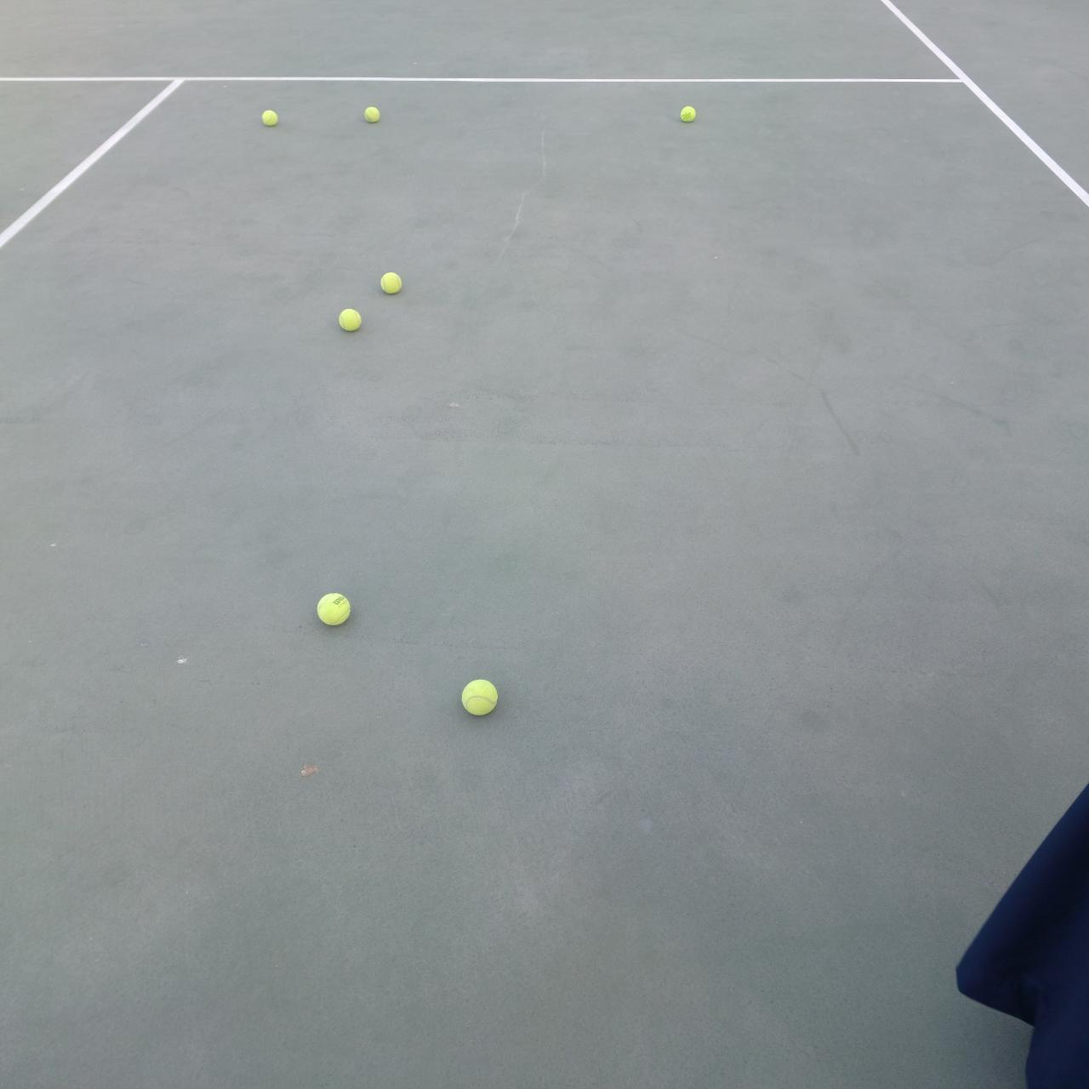tennis-ball: (459, 676, 499, 716), (314, 590, 351, 626), (336, 306, 362, 332), (379, 270, 402, 294), (260, 107, 278, 126), (362, 104, 380, 123), (679, 104, 696, 123)
